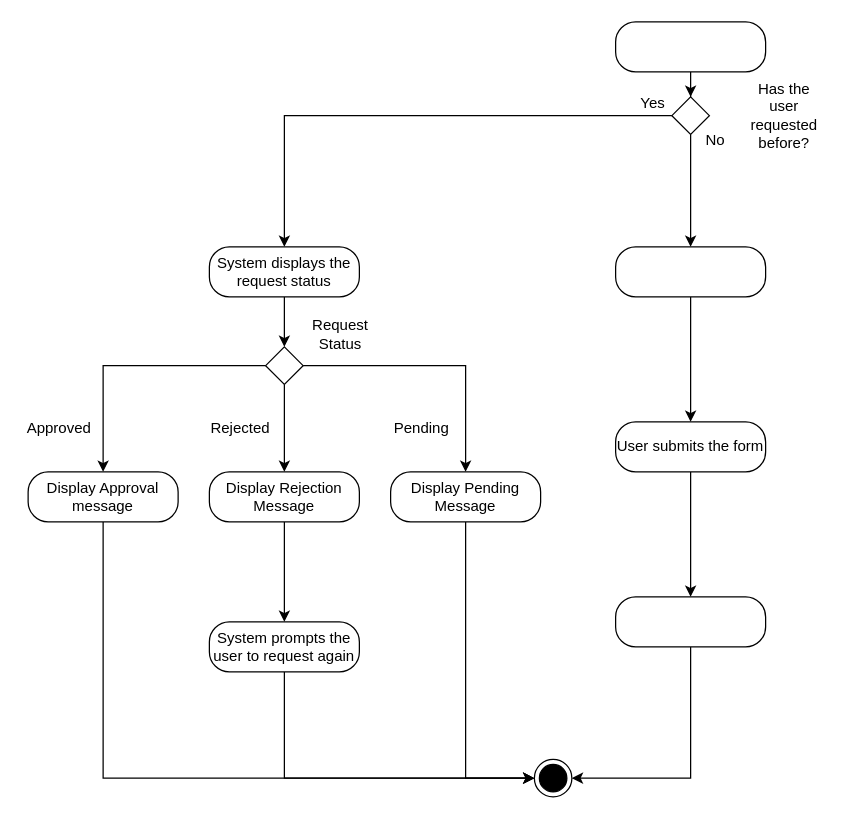
The diagram is 843 pixels wide and 819 high, and some of its shapes have lost their labels. The centre of each missing label's shape, as x and y in pixels:
System displays confirmation message: the point at 690,621
User provides necessary information: the point at 690,271
User requests verification: the point at 690,46
